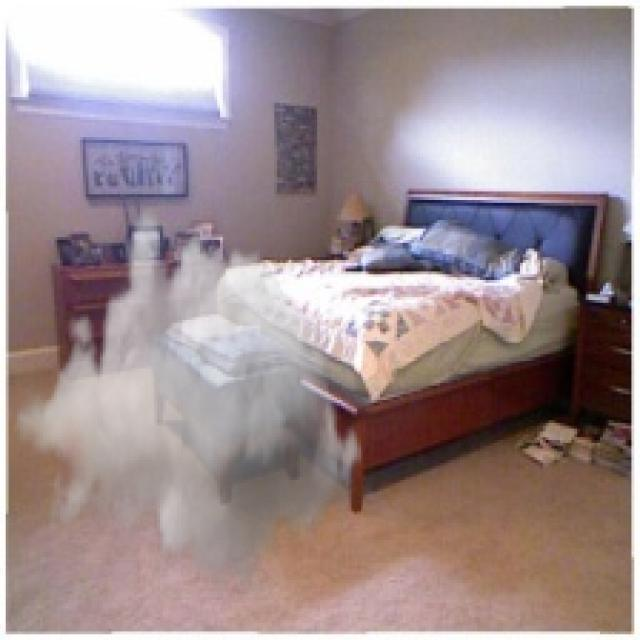Smoke: (14, 203, 366, 600)
